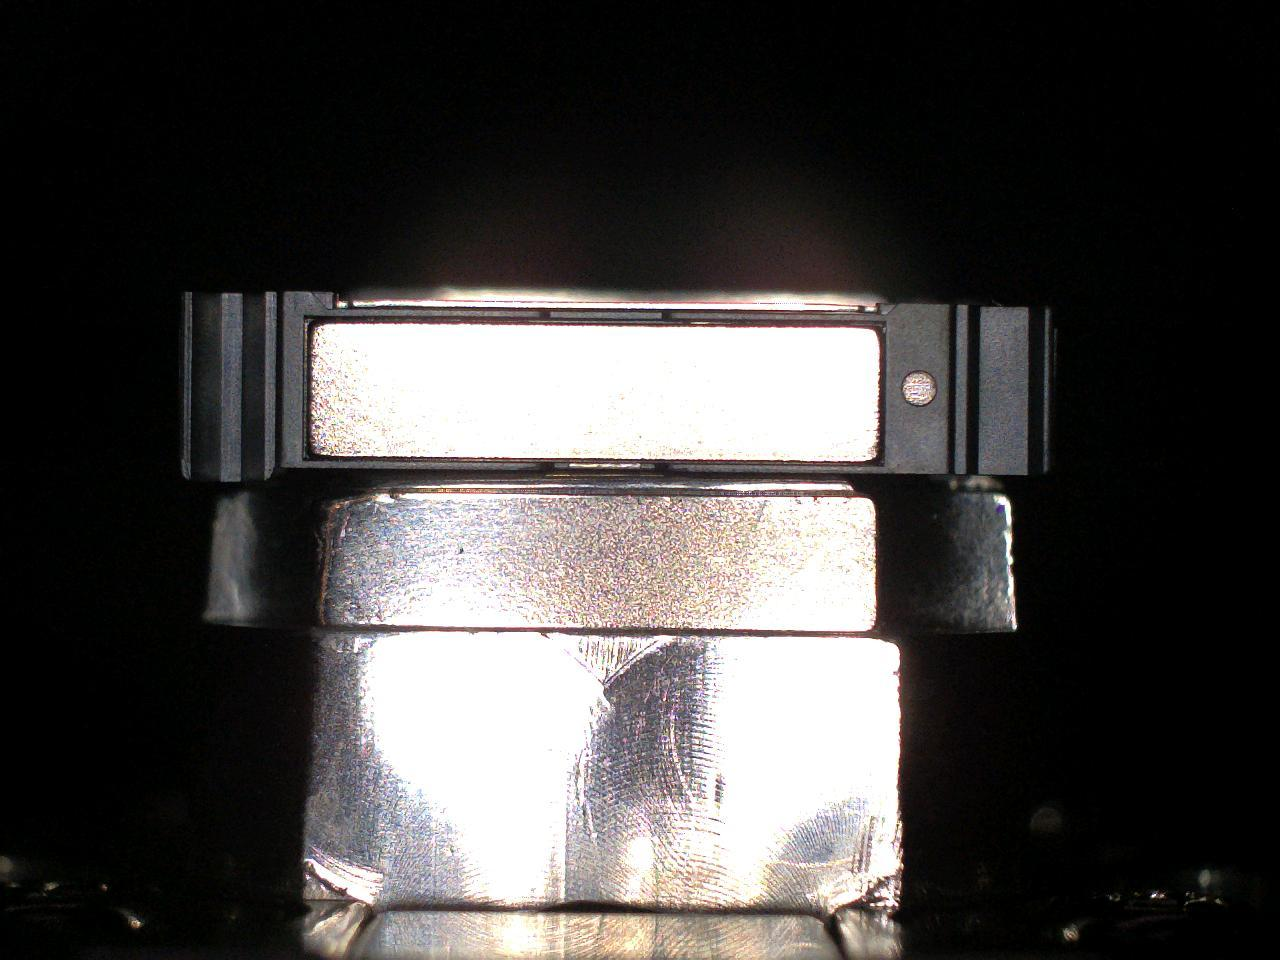frame: (180, 292, 1049, 483), (550, 311, 662, 319)
gap: (304, 315, 543, 326), (671, 319, 888, 329), (301, 455, 538, 463), (670, 460, 887, 467), (551, 318, 665, 328), (553, 458, 658, 464)
magnetic: (308, 324, 879, 462)
